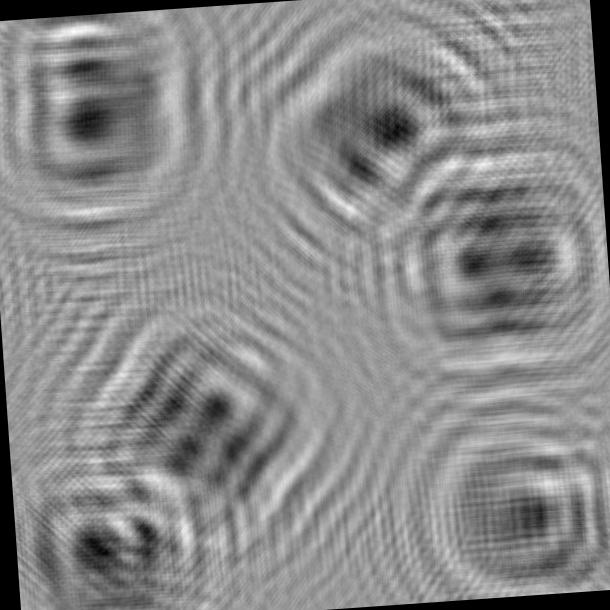F: (231, 0, 532, 293), (353, 97, 610, 394), (0, 4, 244, 242), (8, 424, 255, 610)
H: (42, 268, 350, 588)
J: (372, 369, 610, 604)
